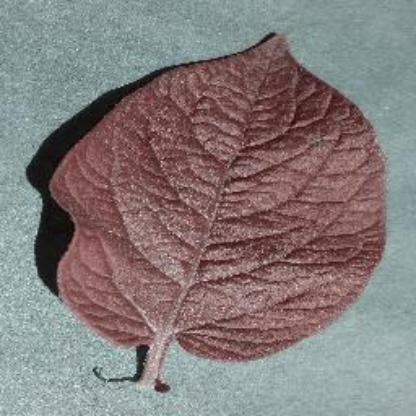Healthy-plant: (34, 28, 402, 378)
